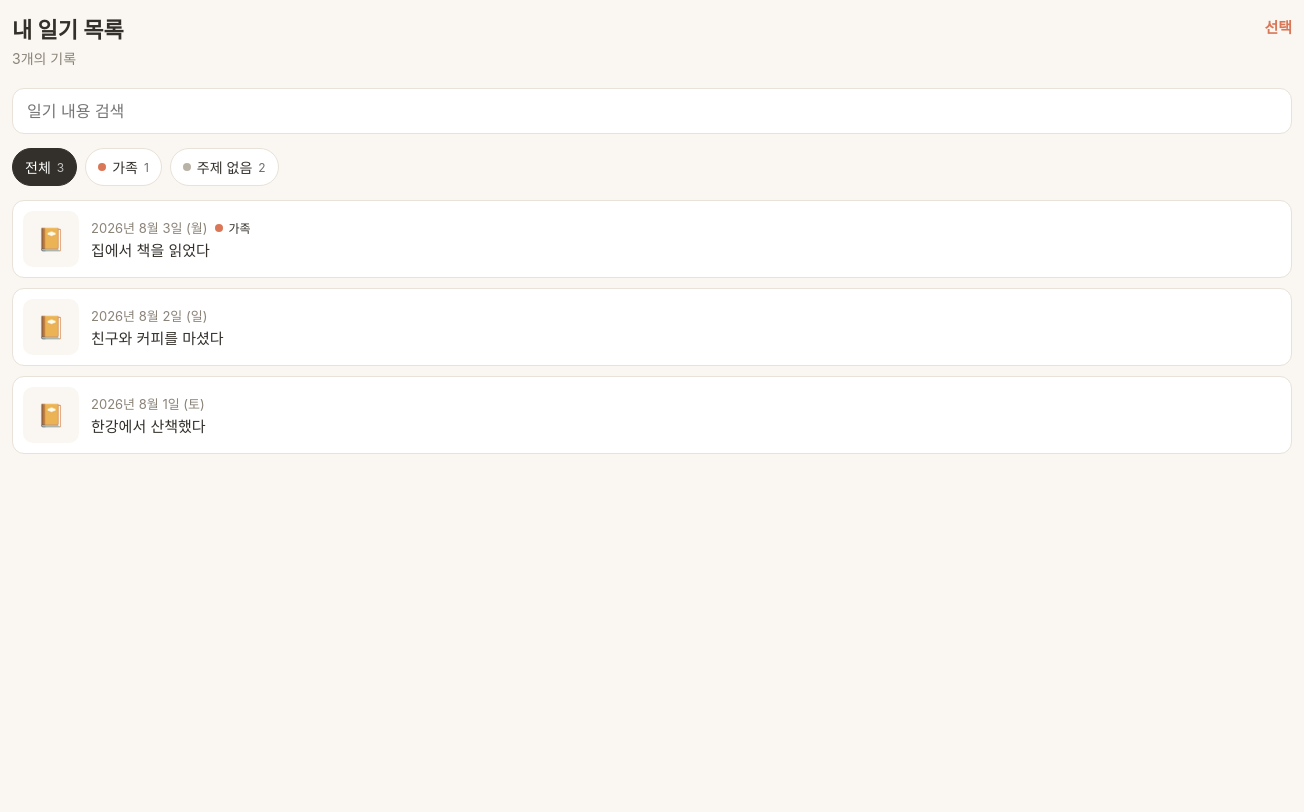
Test: ListPage 선택 삭제 › 선택 모드에서 취소하면 일반 목록으로 돌아간다
The image size is (1304, 812).
Expected: the text "3개의 기록" is shown, x1=12 y1=50 x2=76 y2=67
Click the button "선택" at (1278, 26), box x1=1264 y1=12 x2=1292 y2=41
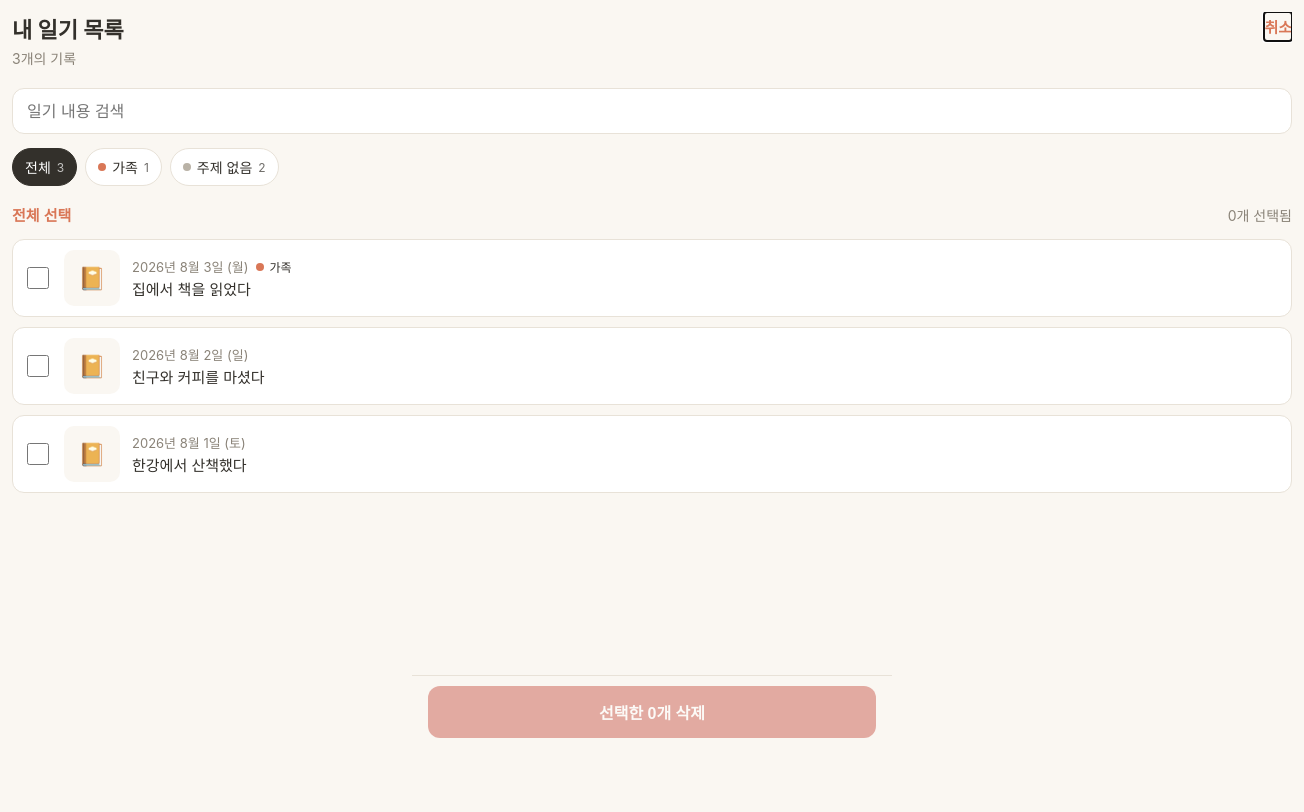
Result: the text "0개 선택됨" is shown at x1=1228 y1=204 x2=1292 y2=224
Click the button "취소" at (1278, 26), box x1=1264 y1=12 x2=1292 y2=41
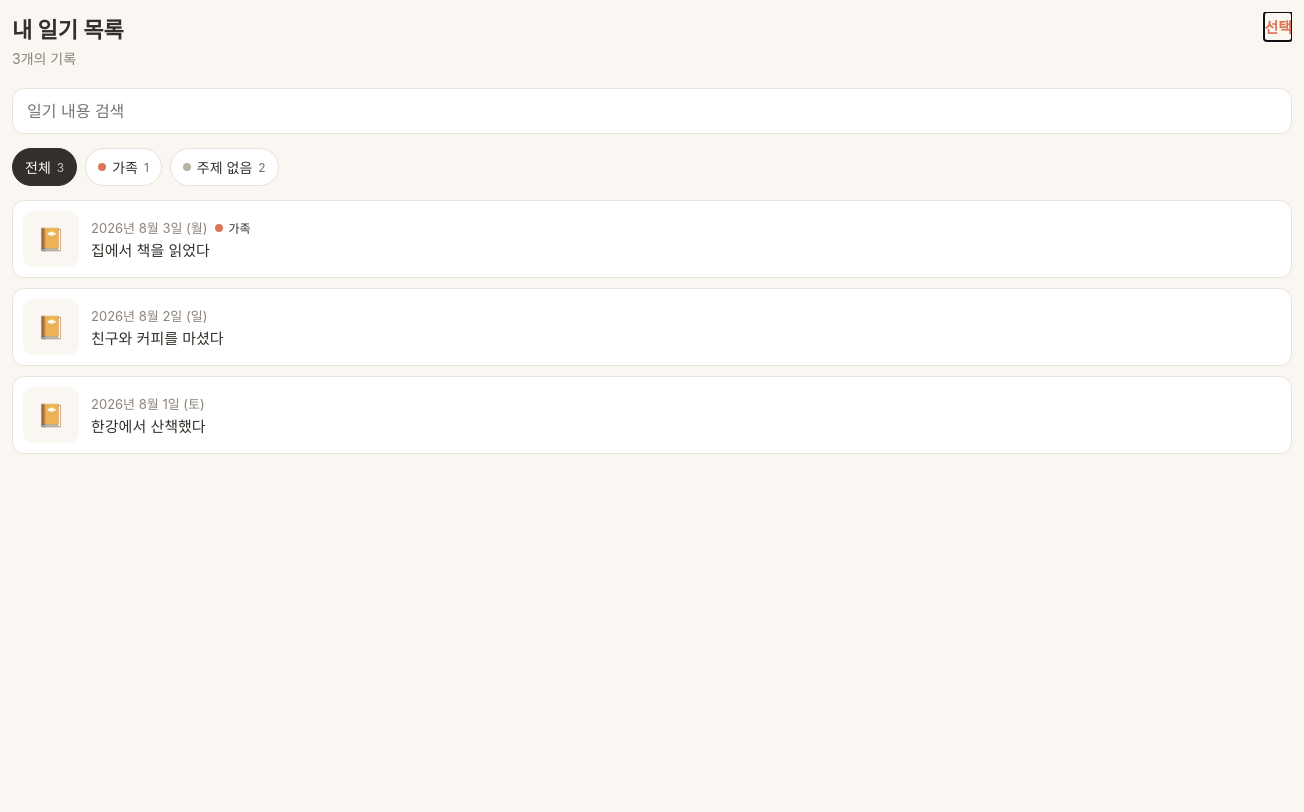
Result: the text "0개 선택됨" is gone
Result: the button "선택" is shown at x1=1264 y1=12 x2=1292 y2=41
